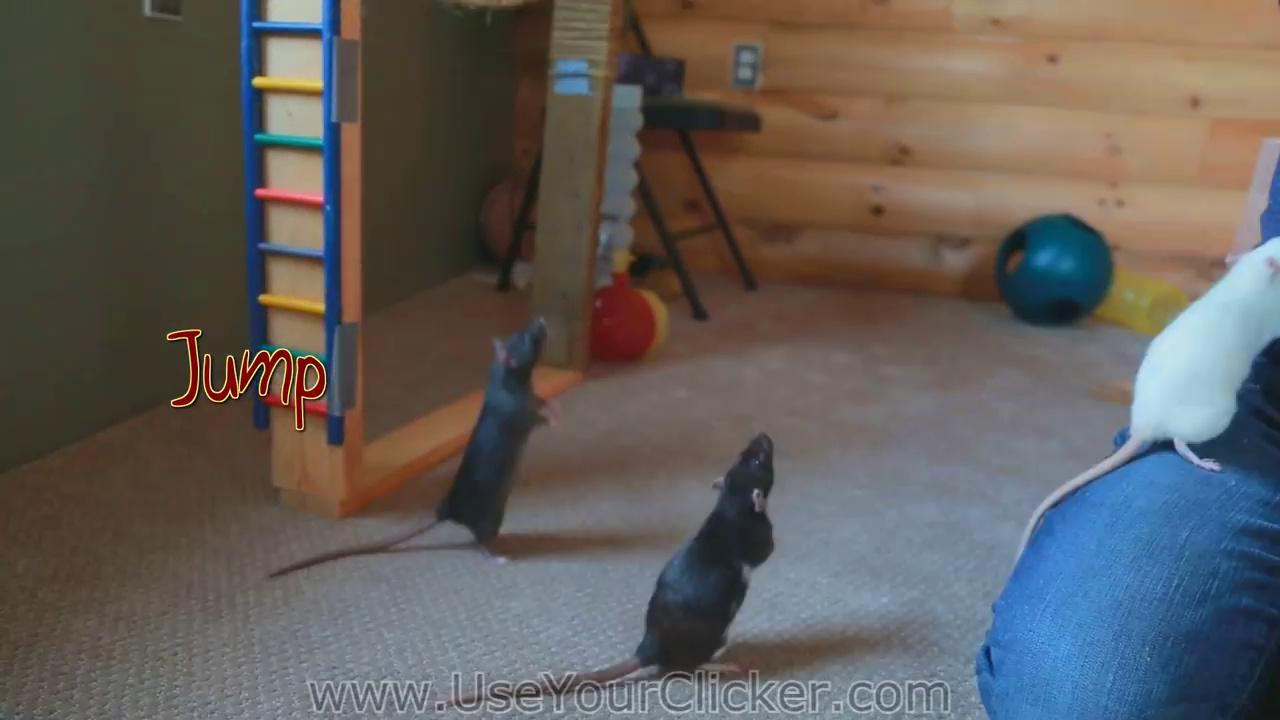rat: (428, 434, 776, 708), (268, 315, 558, 580)
